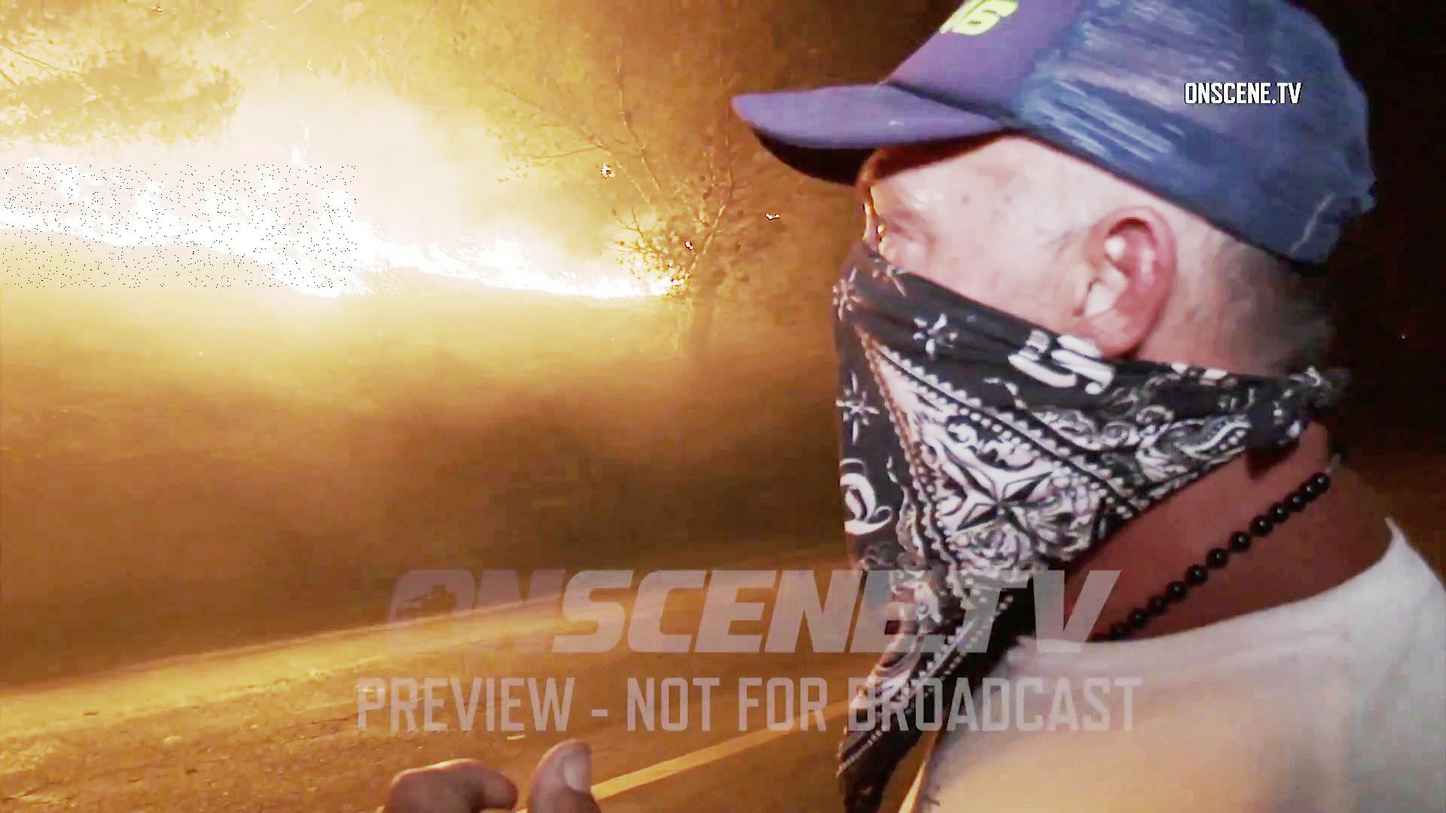fire: (0, 165, 356, 288)
